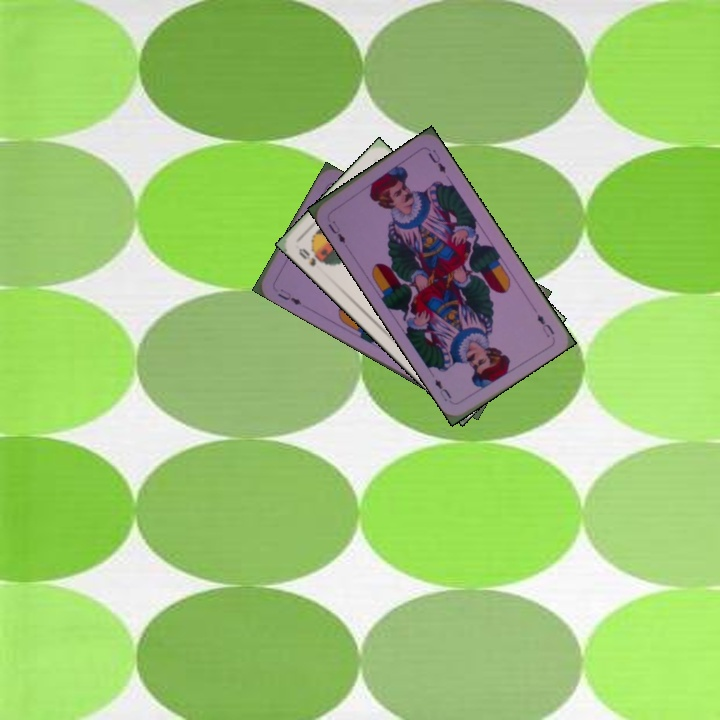EU: (323, 213, 348, 246), (274, 284, 304, 308), (533, 310, 557, 340)
SO: (294, 244, 329, 269)
